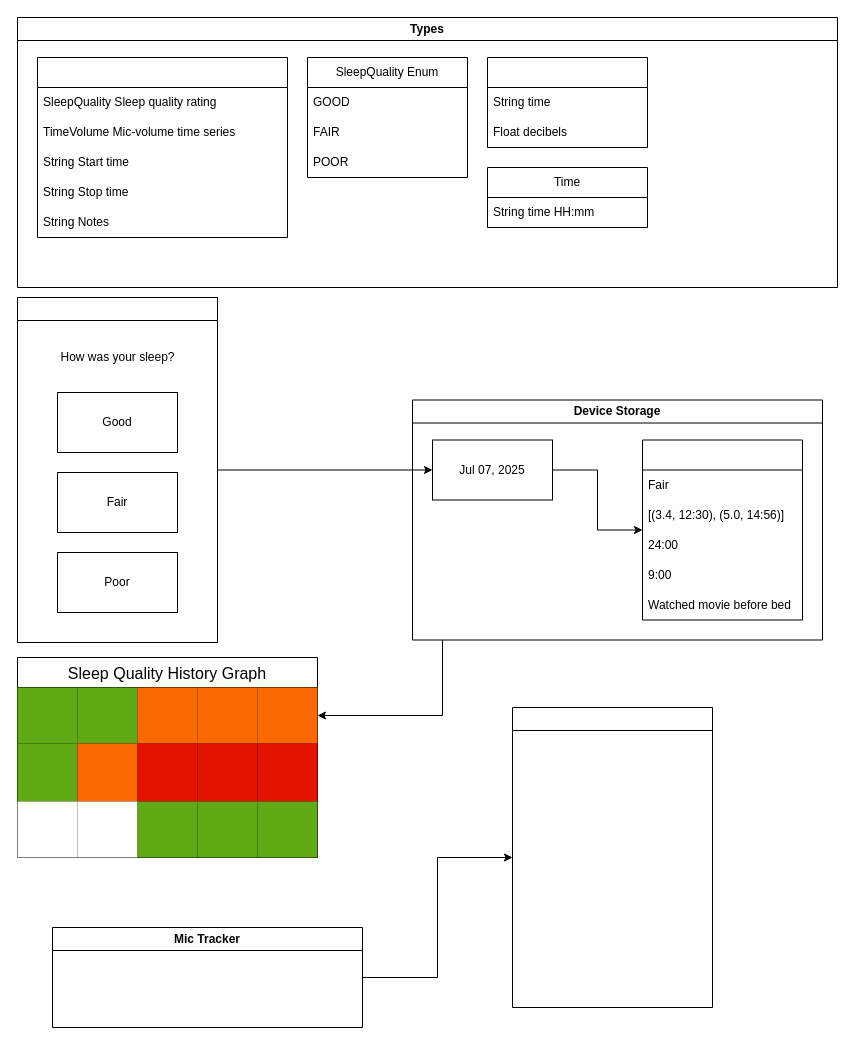
Image size: 855x1045. Some labels were removed from this diagram. Each missing label, with the box of its shape:
Alarm: (512, 706, 712, 1008)
Calendar Entry: (642, 439, 802, 620)
CalendarEntry Struct: (36, 56, 288, 238)
Quality Questionnaire: (16, 296, 218, 642)
TimeVolume struct: (486, 56, 648, 148)
